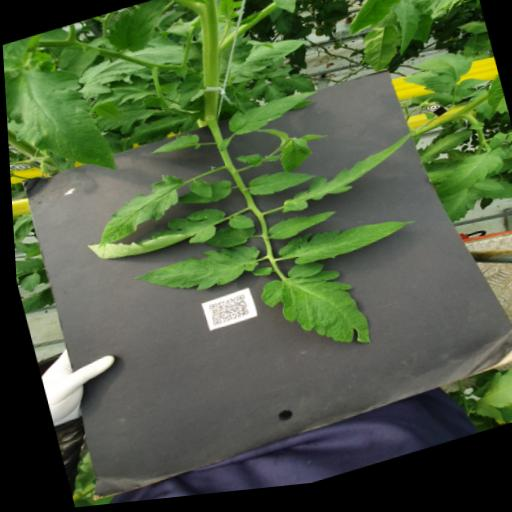Healthy: (251, 255, 370, 379), (268, 137, 426, 223), (81, 207, 229, 278), (130, 242, 263, 311), (82, 171, 191, 251), (74, 37, 199, 103), (330, 0, 462, 45), (223, 93, 322, 143), (100, 0, 176, 62), (220, 36, 313, 85), (426, 157, 506, 208), (461, 368, 512, 438), (413, 56, 477, 106), (120, 112, 195, 152), (262, 211, 337, 250), (385, 0, 429, 66), (243, 166, 315, 206), (357, 31, 406, 84), (401, 72, 454, 114), (413, 138, 474, 174), (173, 181, 233, 216), (200, 223, 255, 258), (144, 133, 200, 166), (437, 195, 480, 234), (2, 49, 32, 104), (274, 141, 313, 180), (171, 75, 207, 113), (320, 0, 450, 10), (264, 0, 311, 25), (469, 184, 503, 208), (232, 154, 264, 178), (10, 212, 34, 244), (455, 28, 487, 50), (186, 181, 211, 207), (16, 269, 41, 295), (421, 0, 457, 18), (455, 83, 489, 102), (224, 216, 252, 238), (259, 87, 287, 109), (483, 140, 507, 162), (266, 72, 295, 85)
